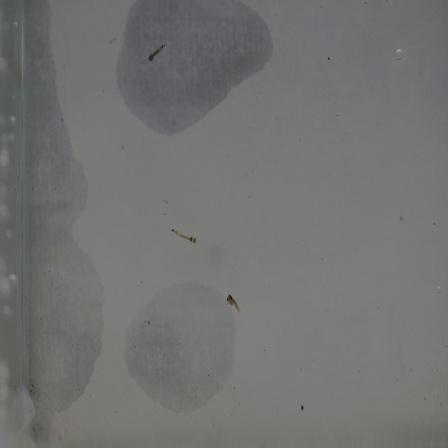Jentik-Nyamuk: (168, 224, 203, 249), (223, 286, 247, 319), (145, 39, 171, 68)
